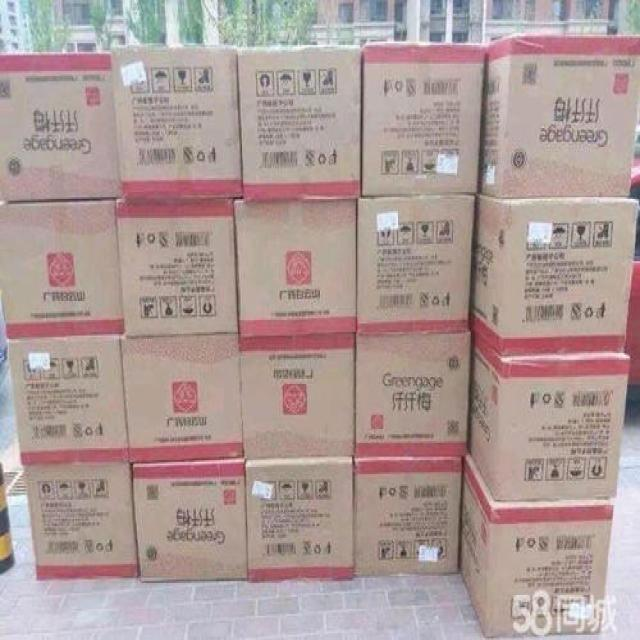box: (457, 450, 615, 637), (469, 190, 636, 356), (467, 333, 629, 502), (479, 31, 639, 200), (112, 45, 244, 197), (236, 46, 360, 202), (361, 45, 485, 197), (0, 53, 123, 204), (0, 196, 121, 339), (115, 196, 239, 335), (236, 199, 355, 336), (357, 196, 475, 333), (119, 336, 242, 461), (9, 335, 127, 462), (238, 333, 355, 458), (355, 333, 472, 456), (131, 459, 249, 580), (22, 461, 138, 578), (247, 456, 353, 582), (354, 456, 463, 575)
